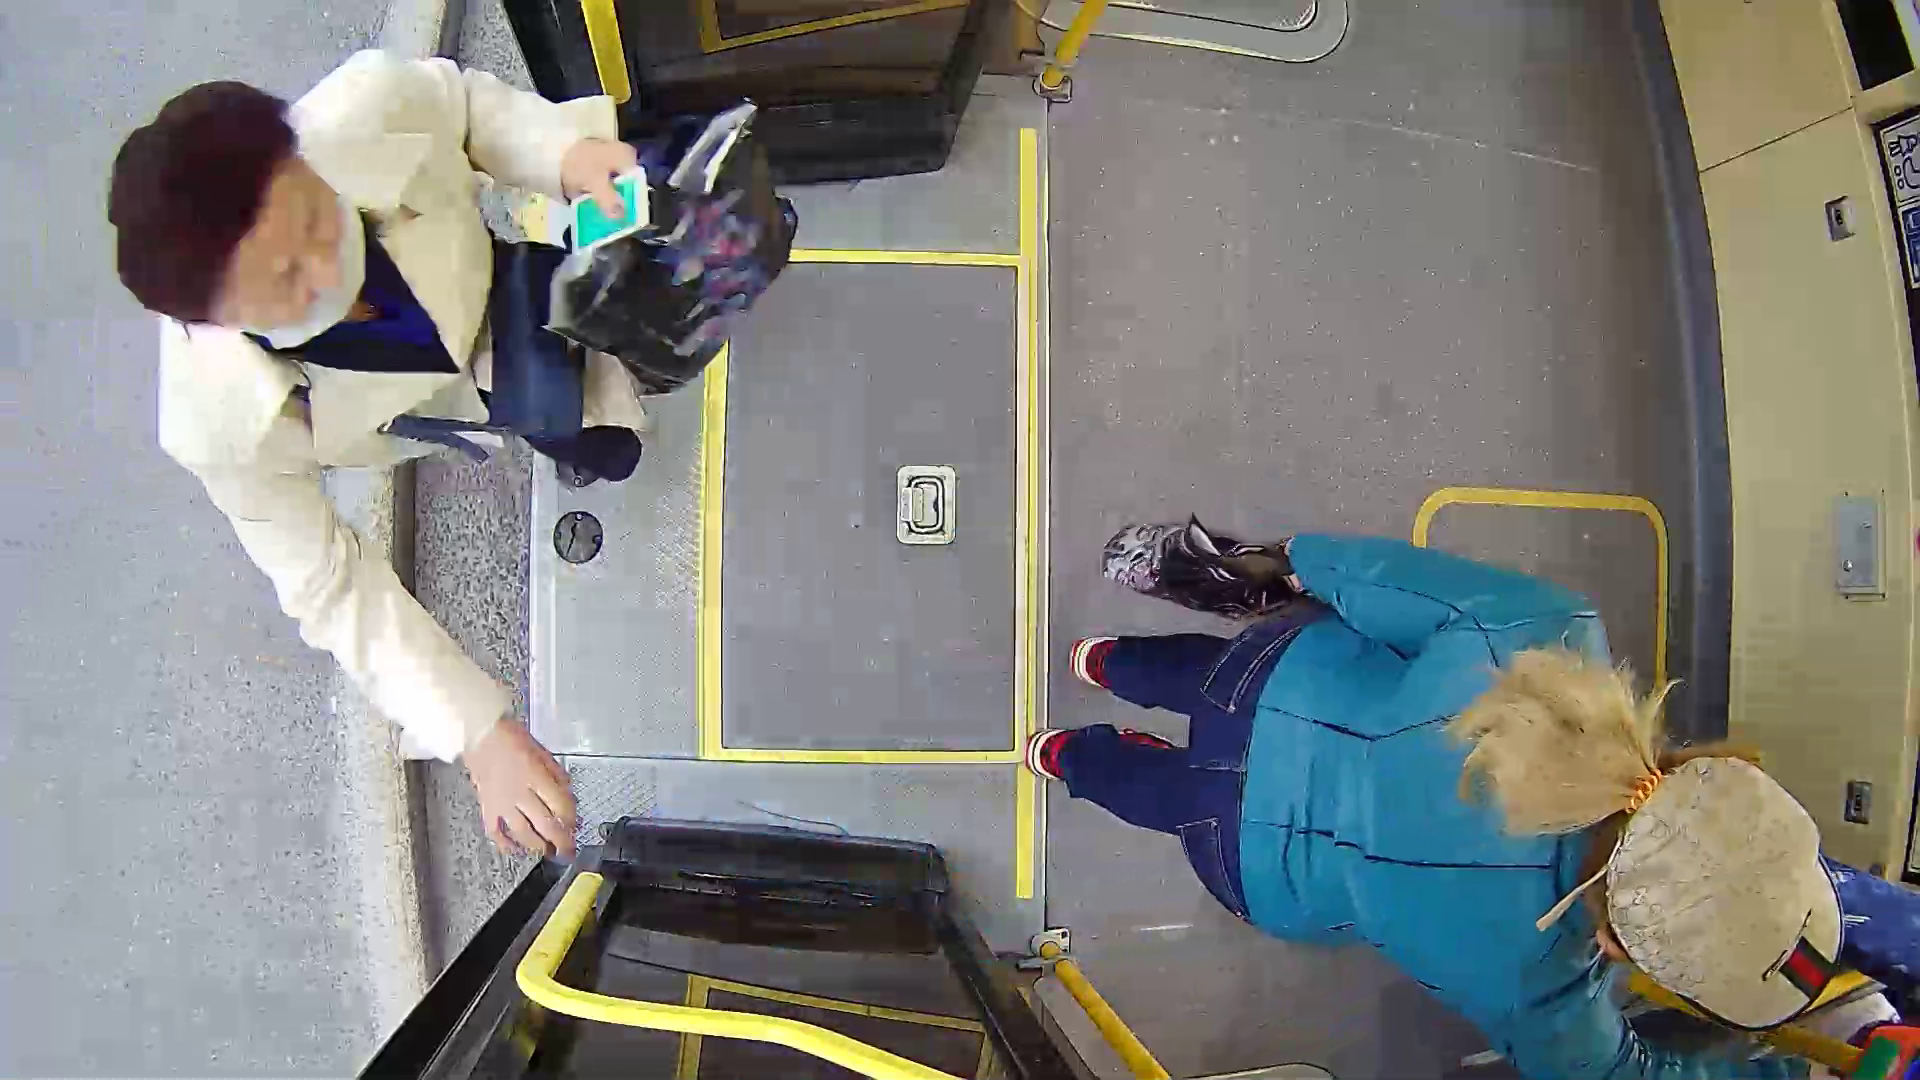person: (51, 28, 932, 809), (1034, 456, 1866, 1080)
